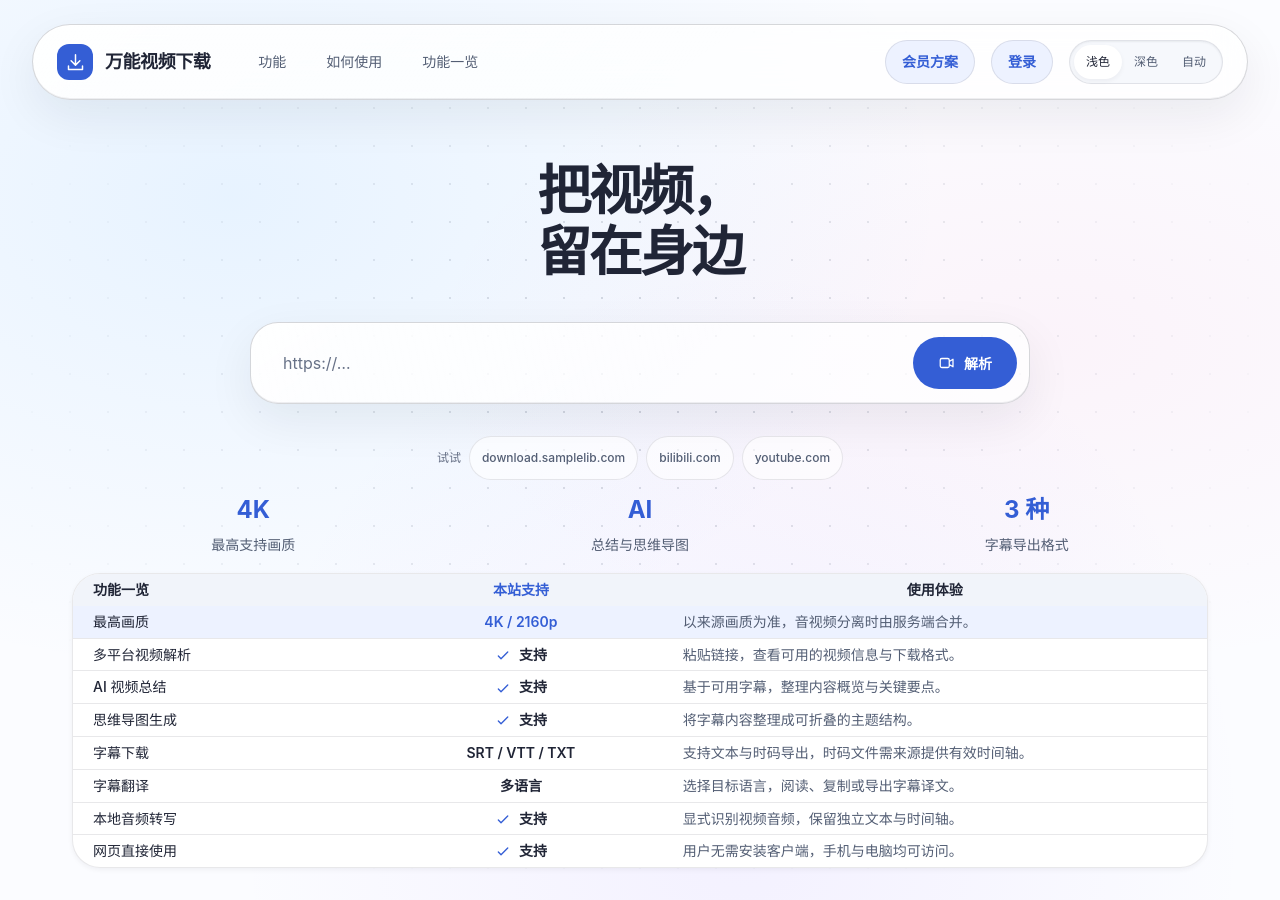
Scenario: App 功能闭环 › 只有顶部按钮打开登录，往返保留未提交草稿并恢复焦点
Type "https://example.com/draft" into the field named "视频链接".
click(582, 363); type("https://example.com/draft")  # box [263,335,901,391]
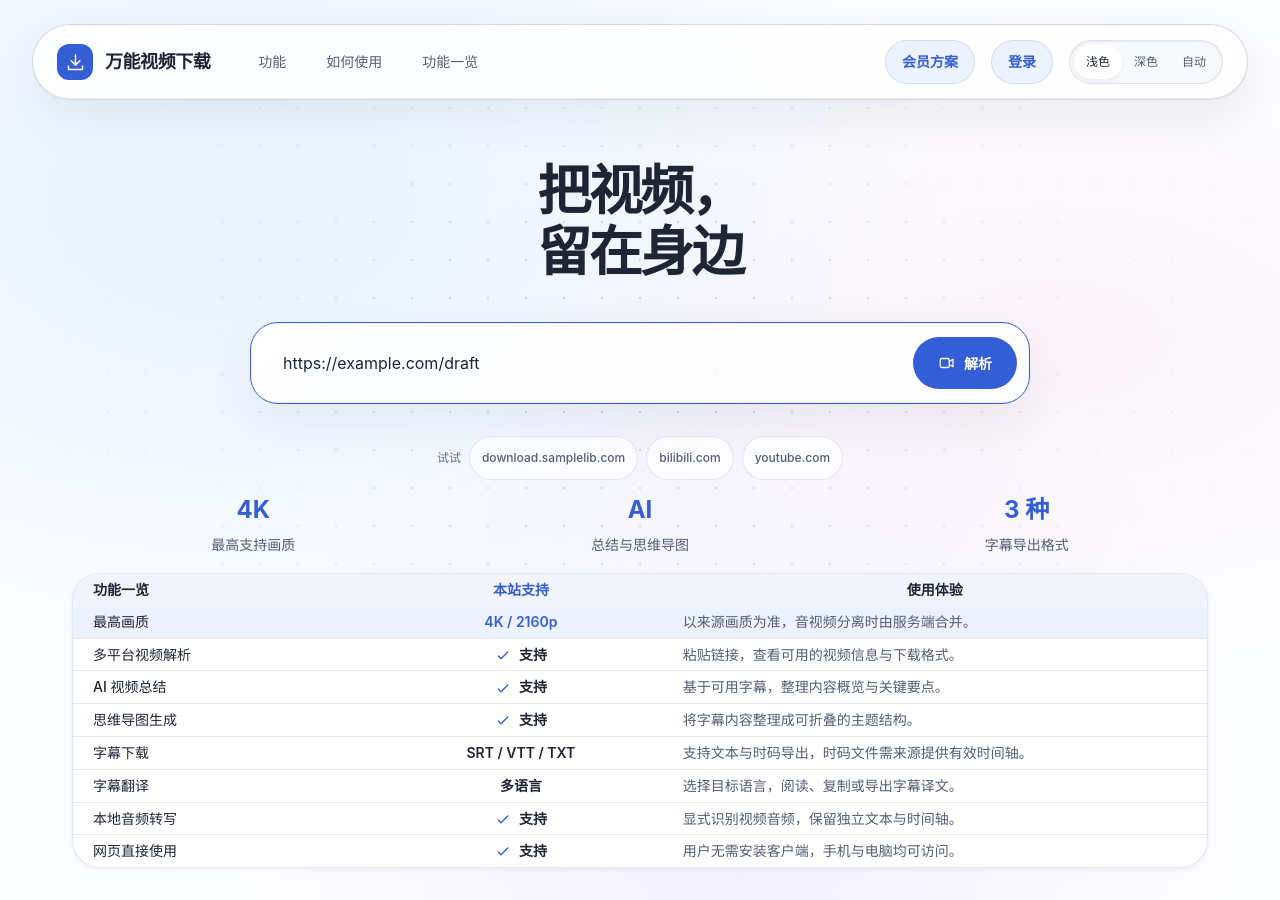
Click the button "登录".
click(1022, 62)  # box [991,40,1053,84]
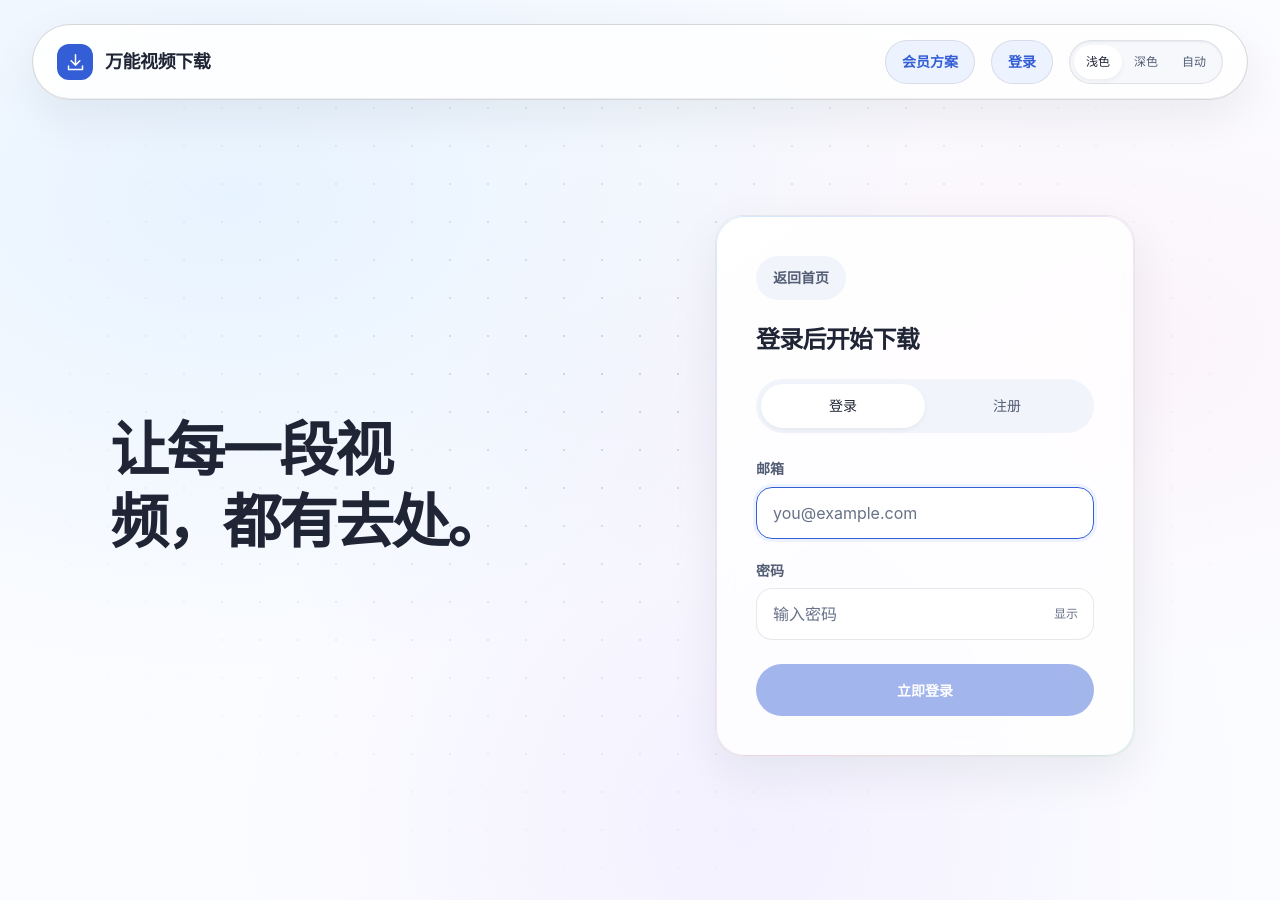
Expected: the element with test id "auth-scene" is shown, [110,215,1135,757]
Click the button "返回首页".
click(801, 278)  # box [756,256,846,300]
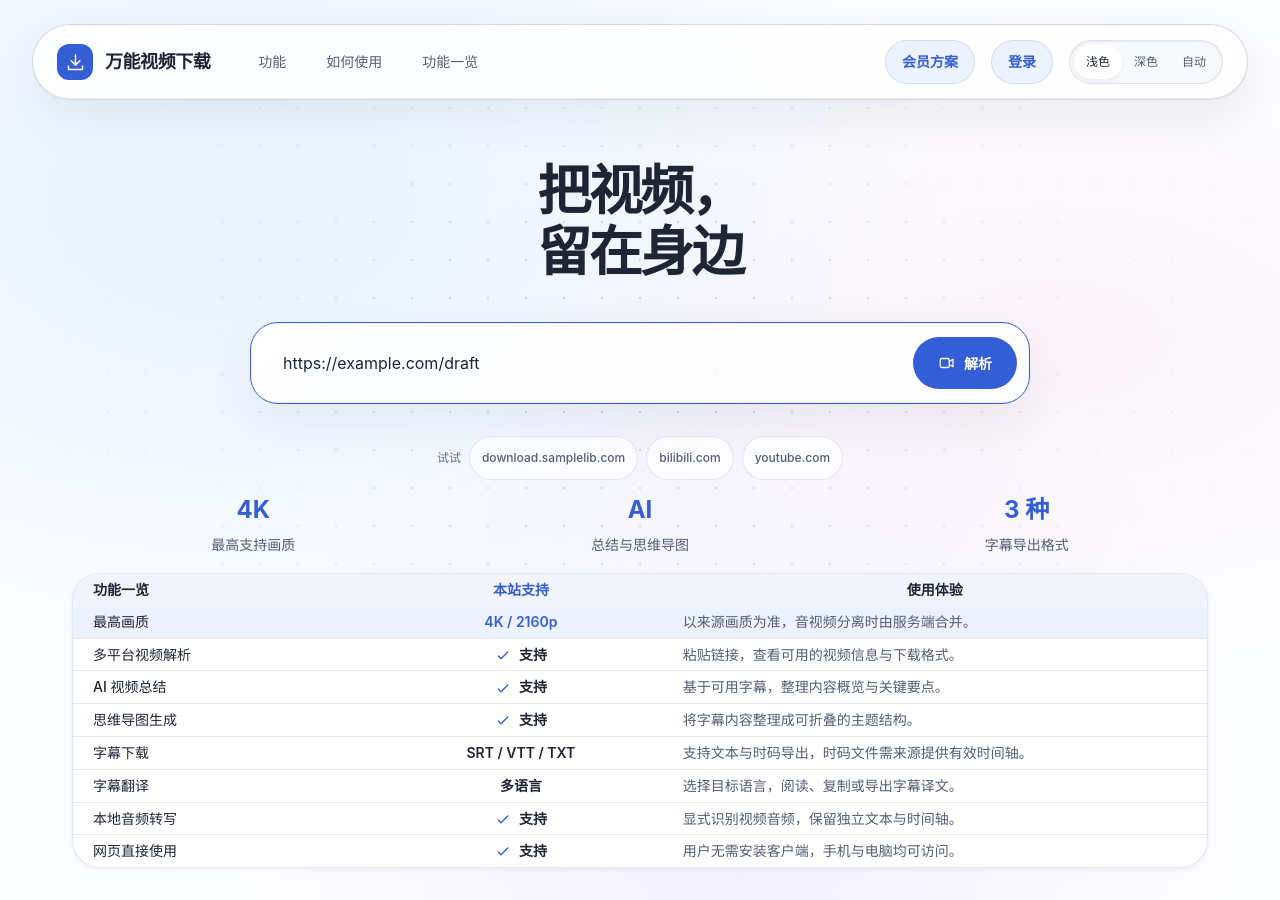
Expected: the field named "视频链接" holds "https://example.com/draft", [263,335,901,391]
